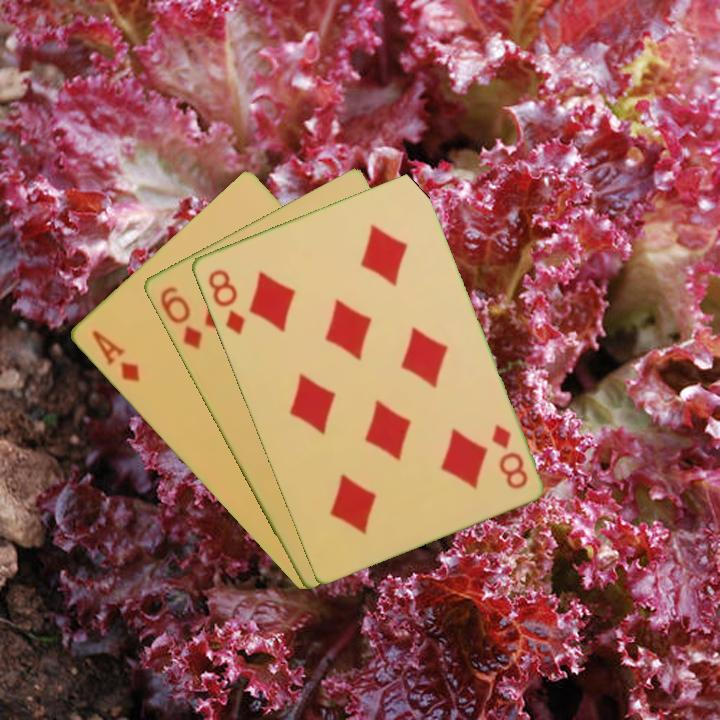6d: (155, 282, 205, 353)
8d: (487, 420, 531, 492), (204, 265, 247, 338)
Ad: (87, 326, 143, 385)
